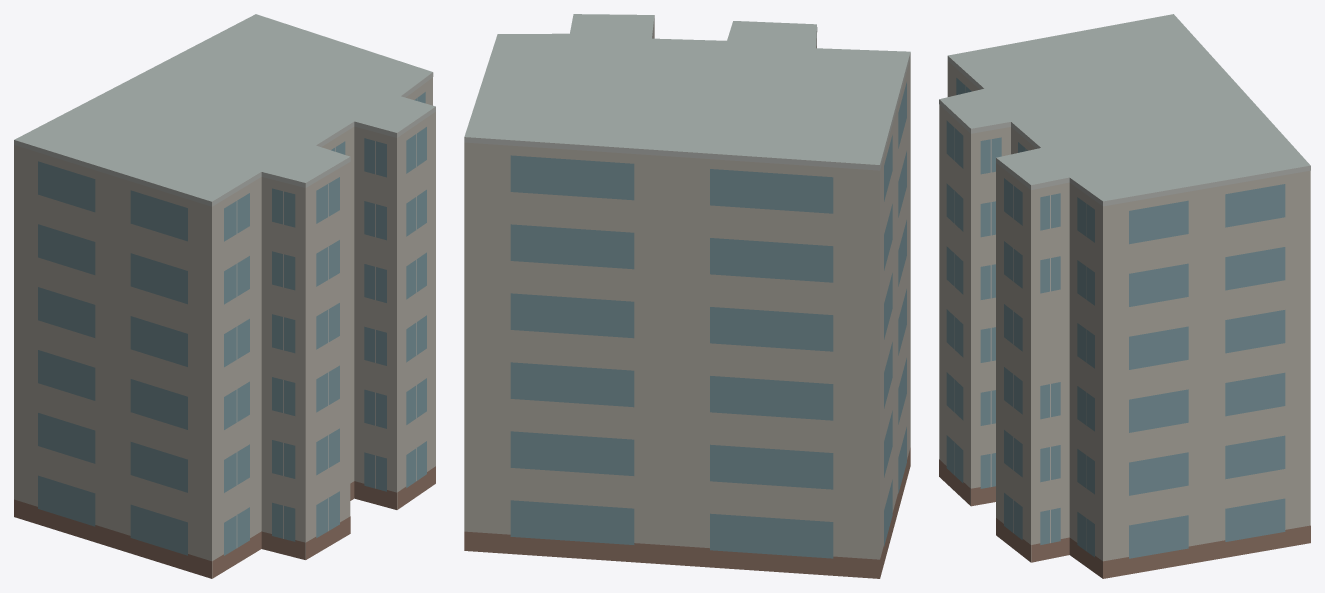
The model's file is survey-upis-32646685.glb.
3 renders of one model, left to right at view 1: azimuth 30°, elevation 25°; view 2: azimuth 150°, elevation 25°; view 3: azimuth 270°, elevation 25°, orthographic. The views are drawn at different scales.
Visible parts, largest first — view 1: survey-upis-32646685.tmp; view 2: survey-upis-32646685.tmp; view 3: survey-upis-32646685.tmp.
Boxes of the visible parts, left/top/right/bottom form: survey-upis-32646685.tmp: left=14, top=14, right=435, bottom=578; survey-upis-32646685.tmp: left=464, top=14, right=910, bottom=578; survey-upis-32646685.tmp: left=939, top=14, right=1310, bottom=578.
Size of the model in its own units: 19.5 by 18.3 by 16.34.
